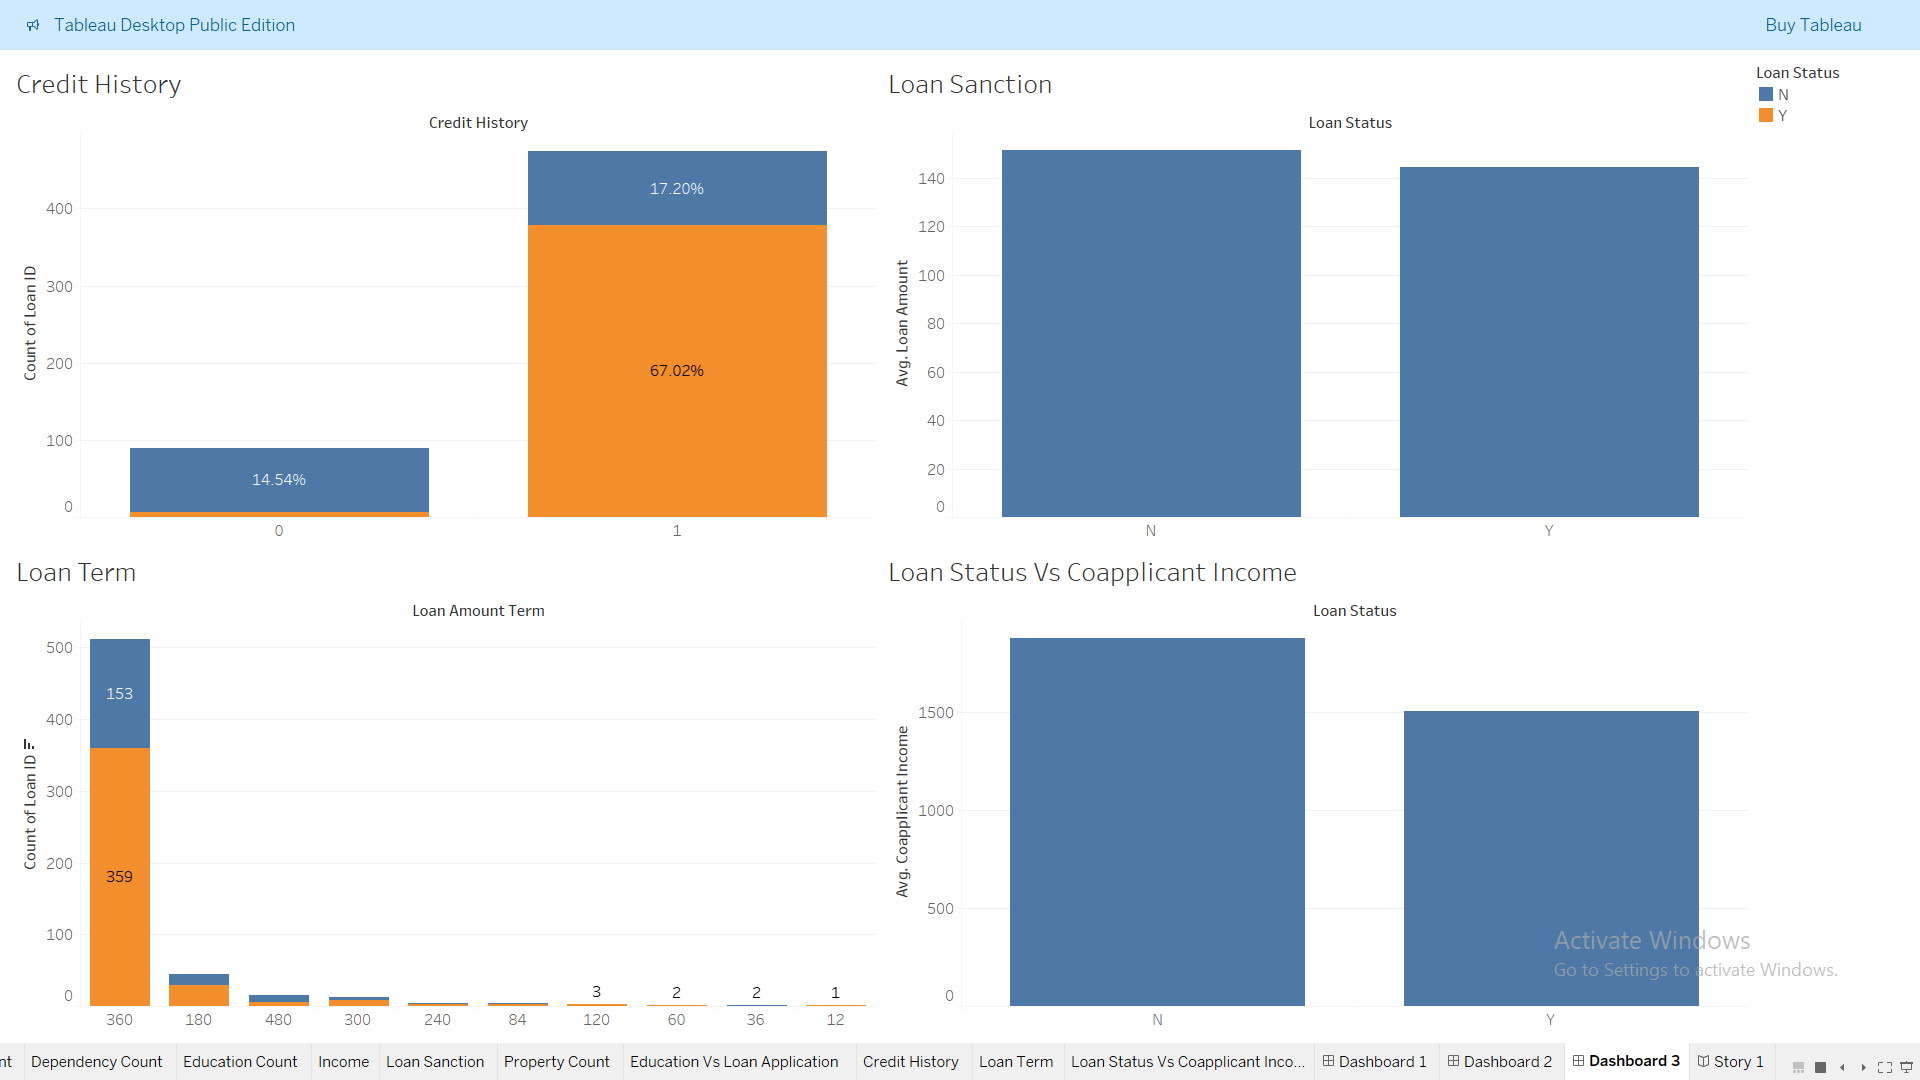

The page's visual inventory and layout, read from the dashboard file:
{"tool":"tableau","page":{"name":"Dashboard 3","canvas":[1000,1000],"units":"permille","ordinal":2},"visuals":[{"type":"worksheet","title":"Credit History","mark":"Automatic","rows":["Loan_ID"],"cols":["Credit_History"],"box":[4.8,9.9,446.9,490.1]},{"type":"worksheet","title":"Loan Sanction","mark":"Automatic","rows":["LoanAmount"],"cols":["Loan_Status"],"box":[451.7,9.9,446.9,490.1]},{"type":"legend","title":"Credit History","param":"[federated.0xjg1av01pkykz1cuj4hv1cmy79k].[none:Loan_Status:nk]","box":[898.6,9.9,96.6,88.8]},{"type":"worksheet","title":"Loan Term","mark":"Automatic","rows":["Loan_ID"],"cols":["Loan_Amount_Term"],"box":[4.8,500,446.9,490.1]},{"type":"worksheet","title":"Loan Status Vs Coapplicant Income","mark":"Automatic","rows":["CoapplicantIncome"],"cols":["Loan_Status"],"box":[451.7,500,446.9,490.1]}]}

Visuals, with their boxes on the dashboard's canvas, which has no fixed pixel size, in thousandths of its width and height (x1, y1, x2, y2). These are canvas units, not pixel positions in the 1920x1080 screenshot, which may show the page scaled, cropped or inside an application window:
"Credit History" worksheet: x1=5, y1=10, x2=452, y2=500
"Loan Sanction" worksheet: x1=452, y1=10, x2=899, y2=500
"Credit History" legend: x1=899, y1=10, x2=995, y2=99
"Loan Term" worksheet: x1=5, y1=500, x2=452, y2=990
"Loan Status Vs Coapplicant Income" worksheet: x1=452, y1=500, x2=899, y2=990
